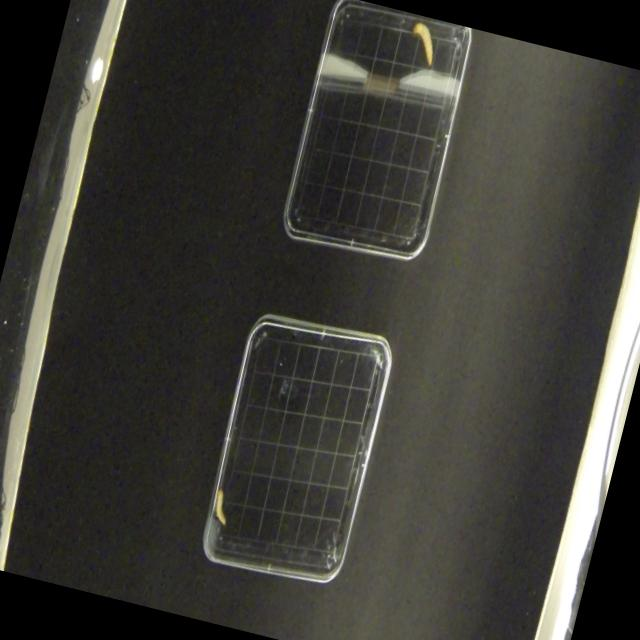larva: (404, 19, 442, 66), (207, 486, 234, 530)
